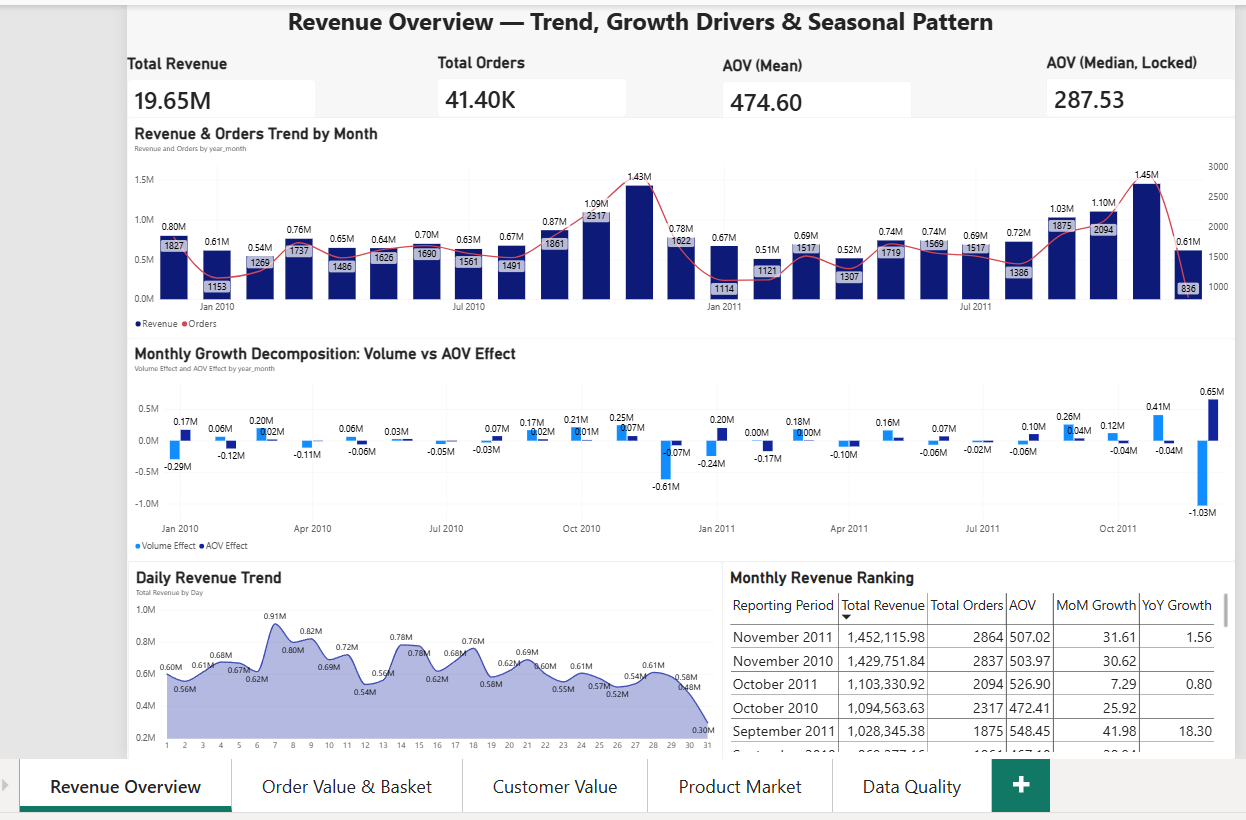

This screenshot's page, from the dashboard's own definition file:
{"tool":"powerbi","page":{"name":"Revenue Overview","canvas":[2200,1200],"ordinal":0},"visuals":[{"type":"textbox","box":[427.1,0,1190.6,69.2],"z":0},{"type":"cardVisual","title":"Total Revenue","fields":{"Data":["KPI Summary.Total Revenue"]},"box":[0,70.2,426,164.6],"z":1000},{"type":"cardVisual","title":"Total Orders","fields":{"Data":["KPI Summary.Total Orders"]},"box":[595.6,70.6,426,165],"z":2000},{"type":"cardVisual","title":"AOV (Mean)","fields":{"Data":["KPI Summary.AOV Mean"]},"box":[1191.3,70.6,426,165],"z":3000},{"type":"cardVisual","title":"AOV (Median, Locked)","fields":{"Data":["KPI Summary.AOV Median (Locked KPI)"]},"box":[1772.8,70.6,426,165],"z":4000},{"type":"lineClusteredColumnComboChart","title":"Revenue & Orders Trend by Month","fields":{"Y":["Sum(mart_aov_monthly.revenue)"],"Y2":["Sum(mart_aov_monthly.orders)"],"Category":["mart_aov_monthly.year_month.Variation.Date Hierarchy.Year"]},"box":[0,251.2,1256.2,502.5],"z":5000},{"type":"lineChart","title":"Daily Revenue Trend","fields":{"Category":["mart_revenue_daily.date.Variation.Date Hierarchy.Day"],"Y":["KPI Summary.Total Revenue"]},"box":[0,753.7,1256.2,448.8],"z":6000},{"type":"clusteredColumnChart","title":"Monthly Growth Decomposition: Volume vs AOV Effect","fields":{"Y":["Sum(mart_aov_monthly.volume_effect)","Sum(mart_aov_monthly.aov_effect)"],"Category":["mart_aov_monthly.year_month.Variation.Date Hierarchy.Year"]},"box":[1256.2,251.2,942.9,502.5],"z":7000},{"type":"tableEx","title":"Monthly Revenue Ranking","fields":{"Values":["mart_aov_monthly.year_month.Variation.Date Hierarchy.Year","Sum(mart_aov_monthly.revenue)","Sum(mart_aov_monthly.orders)","Sum(mart_aov_monthly.aov)","Sum(mart_aov_monthly.mom_pct_change)","Sum(mart_aov_monthly.yoy_pct_change)"]},"box":[1256.2,753.7,942.9,446],"z":8000}]}

Visuals, with their boxes on the page's 2200x1200 design canvas (x1, y1, x2, y2). These are canvas units, not pixel positions in the 1246x820 screenshot, which may show the page scaled, cropped or inside an application window:
textbox: [427,0,1618,69]
"Total Revenue" cardVisual: [0,70,426,235]
"Total Orders" cardVisual: [596,71,1022,236]
"AOV (Mean)" cardVisual: [1191,71,1617,236]
"AOV (Median, Locked)" cardVisual: [1773,71,2199,236]
"Revenue & Orders Trend by Month" lineClusteredColumnComboChart: [0,251,1256,754]
"Daily Revenue Trend" lineChart: [0,754,1256,1202]
"Monthly Growth Decomposition: Volume vs AOV Effect" clusteredColumnChart: [1256,251,2199,754]
"Monthly Revenue Ranking" tableEx: [1256,754,2199,1200]
